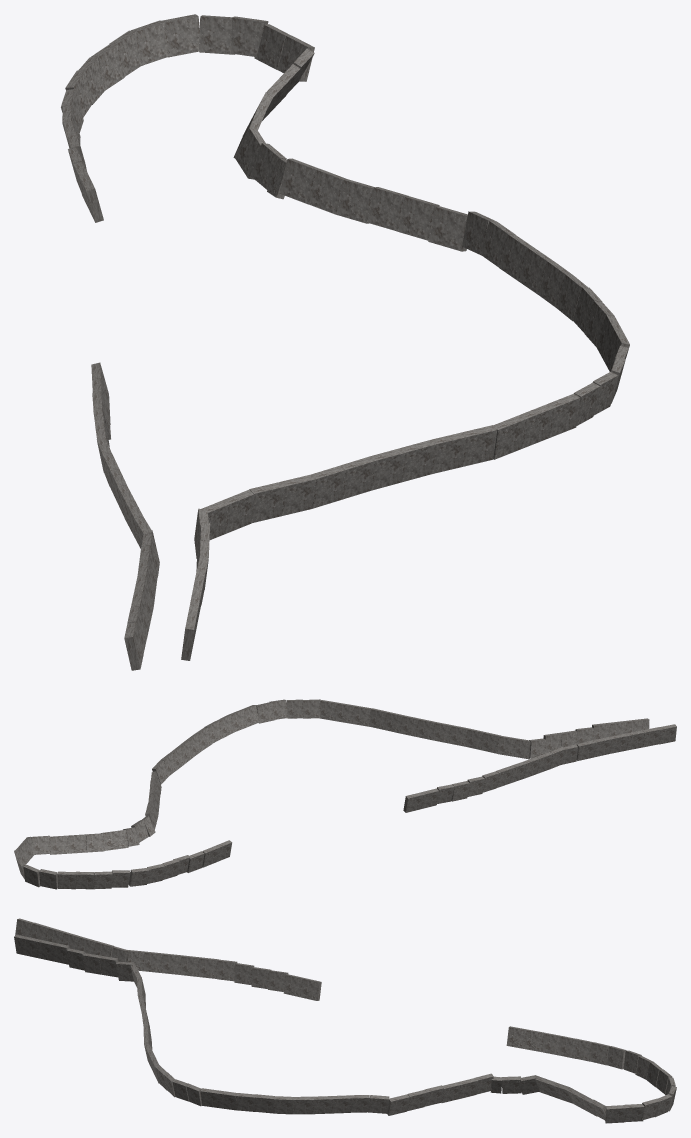
The model's file is 壁横石外.fbx.
3 views of the same model, one above another, from view 1: azimuth 30°, elevation 25°; view 2: azimuth 150°, elevation 25°; view 3: azimuth 270°, elevation 25° (orthographic). The views are drawn at different scales.
Bounding box in the file's own units: 474 × 27.34 × 690.
Materials: 1 (1 with a texture image).
